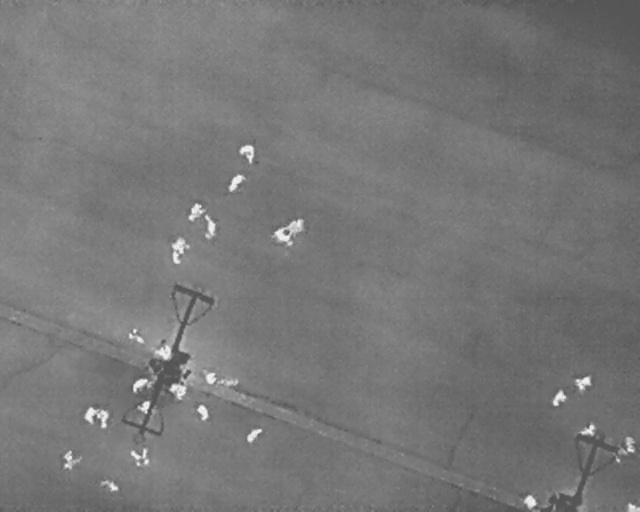Person: (128, 443, 152, 469), (224, 169, 247, 195), (549, 385, 571, 411), (243, 422, 266, 445), (184, 200, 206, 224), (171, 237, 188, 266), (573, 373, 595, 395), (126, 326, 148, 347), (237, 143, 256, 166), (154, 339, 173, 360), (272, 229, 294, 247), (202, 215, 217, 241), (98, 478, 120, 494), (170, 382, 188, 400), (61, 449, 76, 470), (202, 369, 219, 387), (522, 492, 538, 511), (95, 409, 110, 429), (195, 403, 209, 423), (622, 435, 636, 455), (132, 376, 148, 393), (287, 219, 305, 234), (83, 405, 95, 426), (582, 422, 597, 437), (138, 402, 154, 416), (627, 501, 640, 511)
